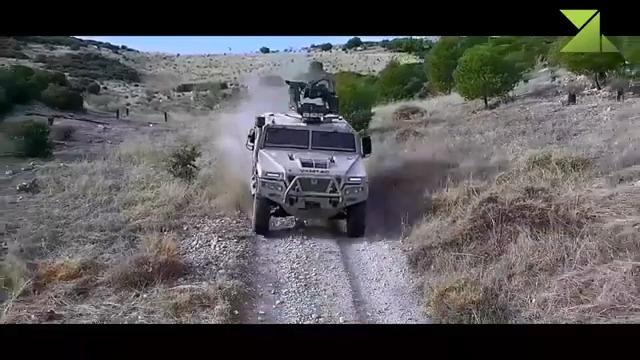MIL_HMMWV: (244, 108, 374, 239)
